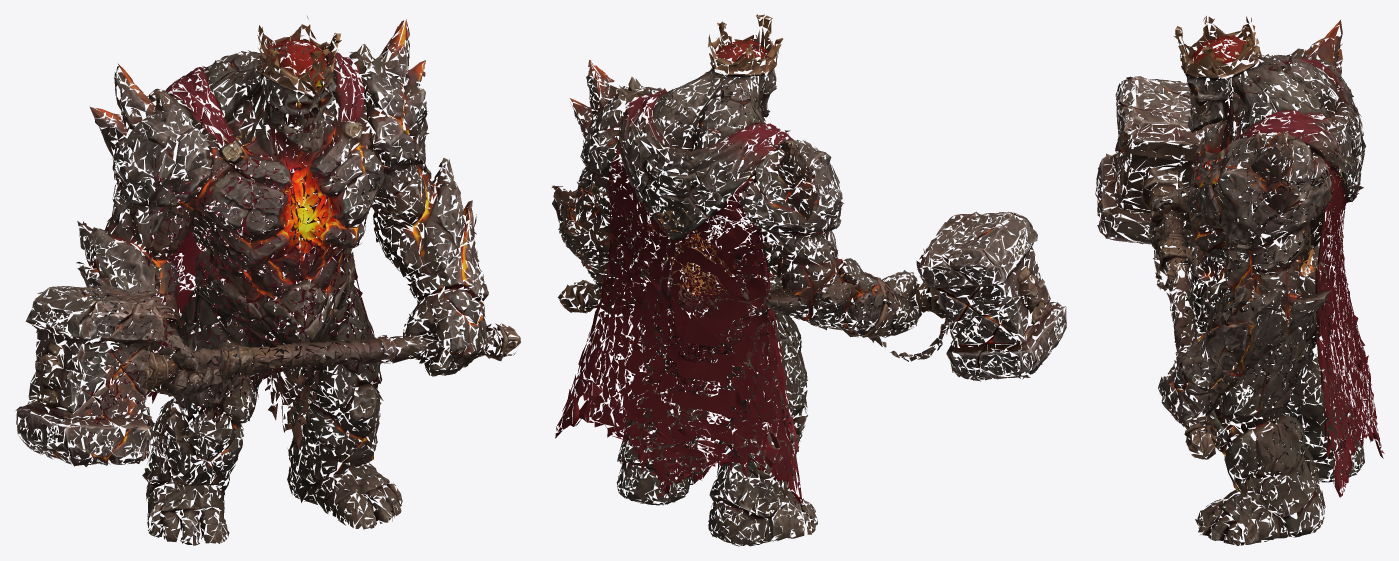
File: boss_king.glb
3 renders of one model, left to right at view 1: azimuth 30°, elevation 25°; view 2: azimuth 150°, elevation 25°; view 3: azimuth 270°, elevation 25°, orthographic. The views are drawn at different scales.
Parts seen in each view (by area): view 1: tripo_node_cca70001-c9cc-44e2-9173-da8387c9b3ab; view 2: tripo_node_cca70001-c9cc-44e2-9173-da8387c9b3ab; view 3: tripo_node_cca70001-c9cc-44e2-9173-da8387c9b3ab.
Part boxes in pixels (x1,y1,x2,y2): tripo_node_cca70001-c9cc-44e2-9173-da8387c9b3ab: [15, 16, 520, 545]; tripo_node_cca70001-c9cc-44e2-9173-da8387c9b3ab: [551, 14, 1066, 546]; tripo_node_cca70001-c9cc-44e2-9173-da8387c9b3ab: [1095, 16, 1384, 545].
Bounding box in the file's own units: 3.42 × 3.2 × 1.78.
1 material, 1 textured.
